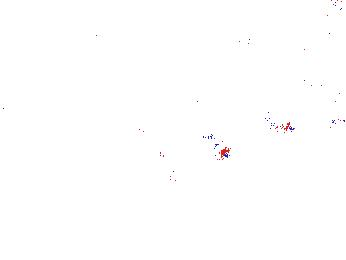glassfish: (128, 125, 179, 191), (125, 200, 176, 228)
red belly glassfish: (204, 134, 233, 163), (254, 118, 296, 138)
